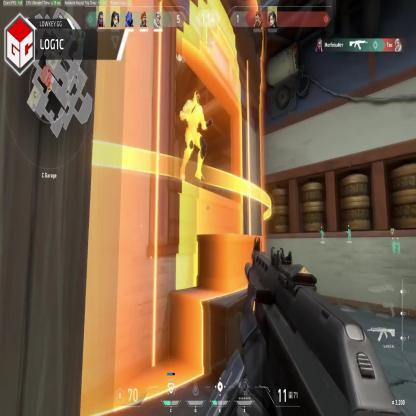enemy: (179, 88, 213, 182)
enemy_head: (192, 90, 200, 106)
